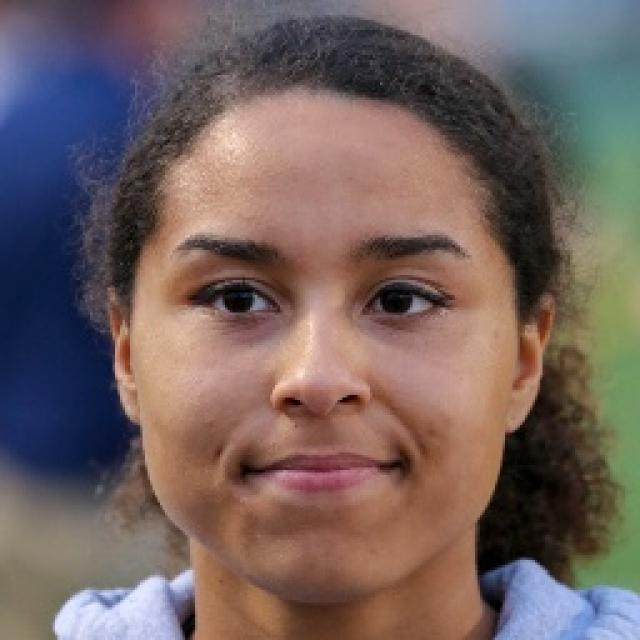earlobe: (504, 381, 540, 434), (118, 389, 142, 429)
eye: (198, 280, 281, 319), (364, 285, 442, 317)
nose: (272, 400, 372, 443)
wholeear: (505, 290, 557, 434), (105, 284, 143, 428)
